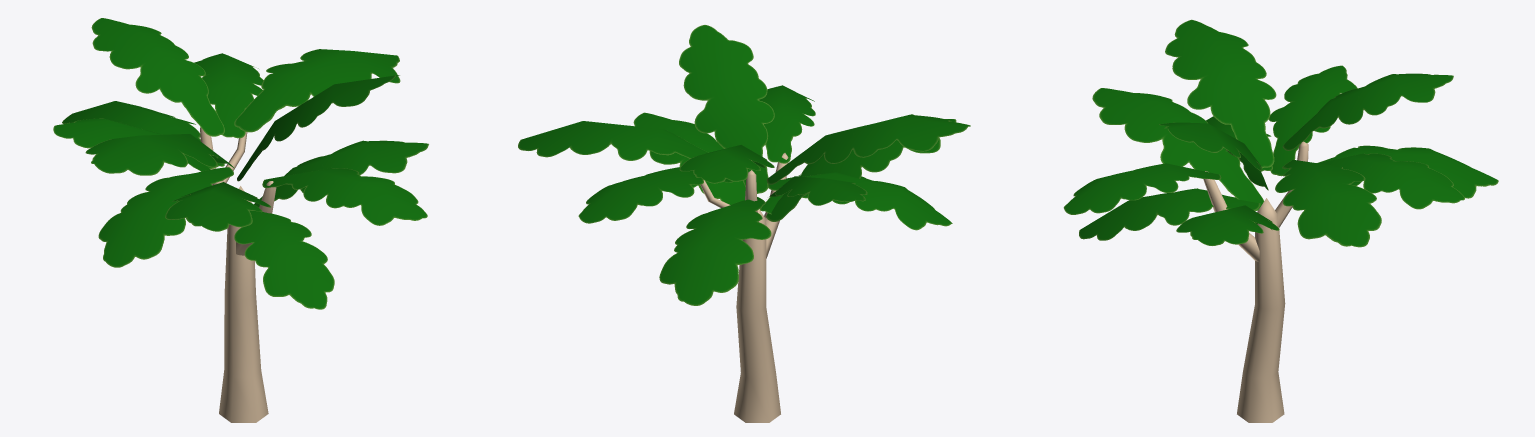
Rendered from Tree_A.fbx.
3 renders of one model, left to right at view 1: azimuth 30°, elevation 25°; view 2: azimuth 150°, elevation 25°; view 3: azimuth 270°, elevation 25°, orthographic. The views are drawn at different scales.
Parts seen in each view (by area): view 1: Tree_A; view 2: Tree_A; view 3: Tree_A.
Boxes of the visible parts, x1=… form: Tree_A: x1=53, y1=18, x2=428, y2=422; Tree_A: x1=518, y1=25, x2=970, y2=422; Tree_A: x1=1063, y1=19, x2=1498, y2=422.
Bounding box in the file's own units: 418 × 309 × 407.
